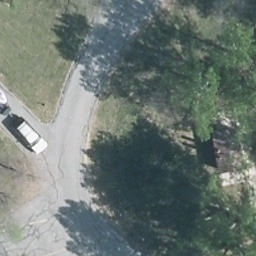car: (12, 119, 48, 156)
